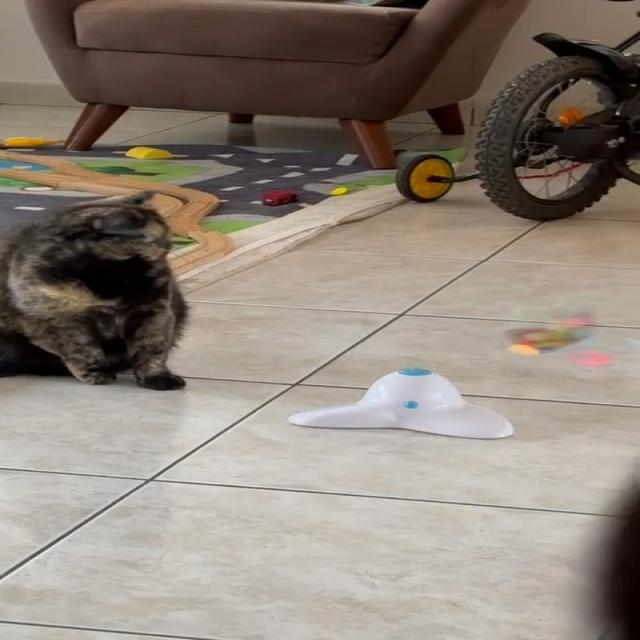authorized: (0, 189, 191, 391)
